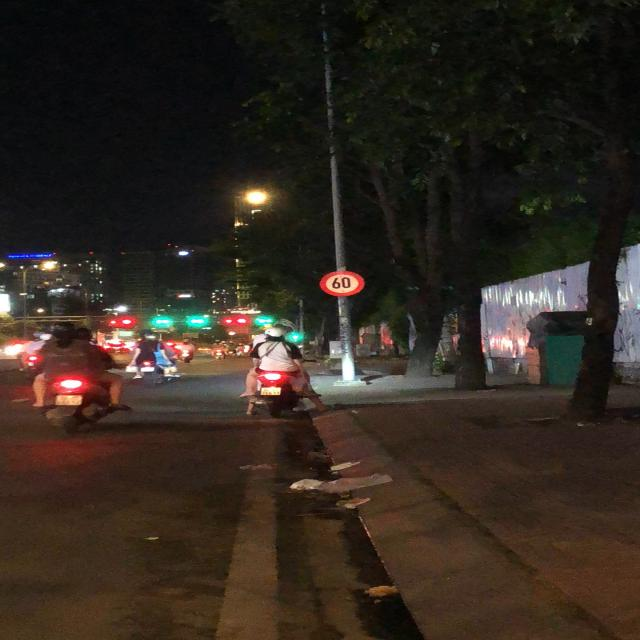Bien bao toc do toi da cho phep: (316, 269, 368, 298)
